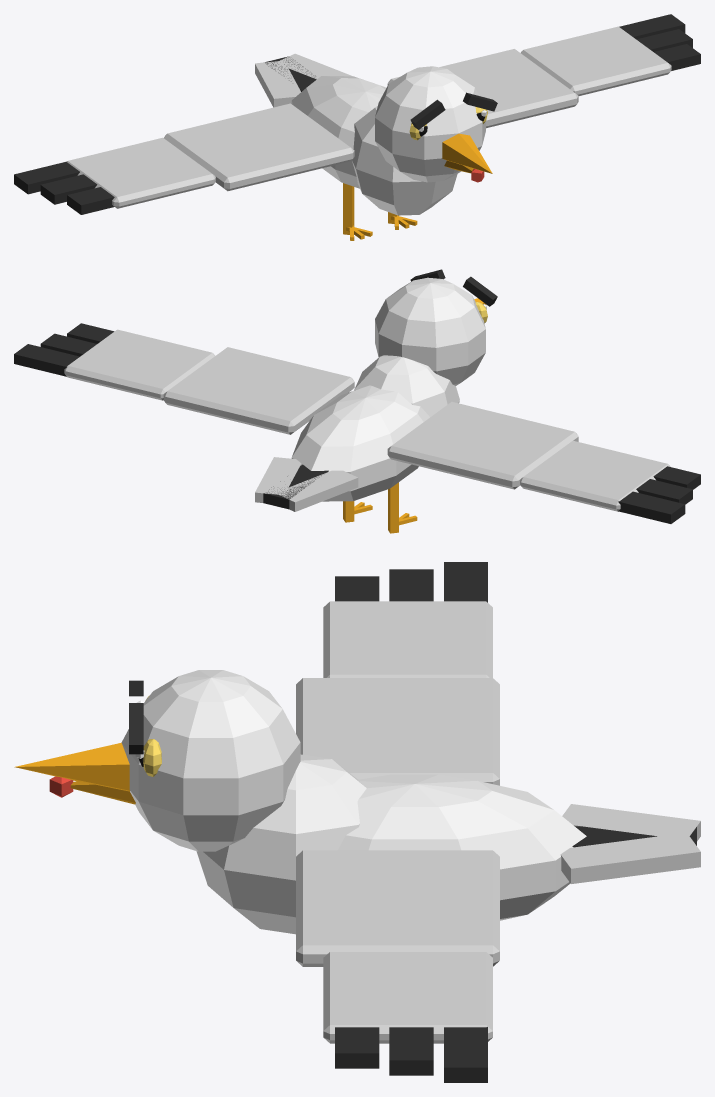
File: moewe.glb
3 renders of one model, top to bottom at view 1: azimuth 30°, elevation 25°; view 2: azimuth 150°, elevation 25°; view 3: azimuth 270°, elevation 25°, orthographic. The views are drawn at different scales.
Parts seen in each view (by area): view 1: head-m, body, wing-1-m, tip-1-m, tip-0-m, wing-0-m, tail-m; view 2: body, wing-0-m, wing-1-m, head-m, tip-1-m, tip-0-m, tail-m; view 3: body, head-m, wing-0-m, tip-0-m, wing-1-m, tip-1-m, tail-m.
Part boxes in pixels (<box>): head-m: <box>375,66,497,182</box>; body: <box>291,76,457,240</box>; wing-1-m: <box>164,103,354,191</box>; tip-1-m: <box>14,137,215,214</box>; tip-0-m: <box>521,14,700,95</box>; wing-0-m: <box>387,49,578,128</box>; tail-m: <box>255,53,352,107</box>; body: <box>291,355,459,533</box>; wing-0-m: <box>163,347,354,434</box>; wing-1-m: <box>387,402,578,489</box>; head-m: <box>375,269,497,385</box>; tip-1-m: <box>520,440,700,523</box>; tip-0-m: <box>14,323,214,400</box>; tail-m: <box>255,457,358,511</box>; body: <box>196,754,586,934</box>; head-m: <box>14,670,300,851</box>; wing-0-m: <box>296,850,499,966</box>; tip-0-m: <box>323,952,492,1082</box>; wing-1-m: <box>296,678,499,785</box>; tip-1-m: <box>323,562,492,677</box>; tail-m: <box>560,804,700,883</box>.
Size of the model in its own units: 5.63 by 1.63 by 3.23.
